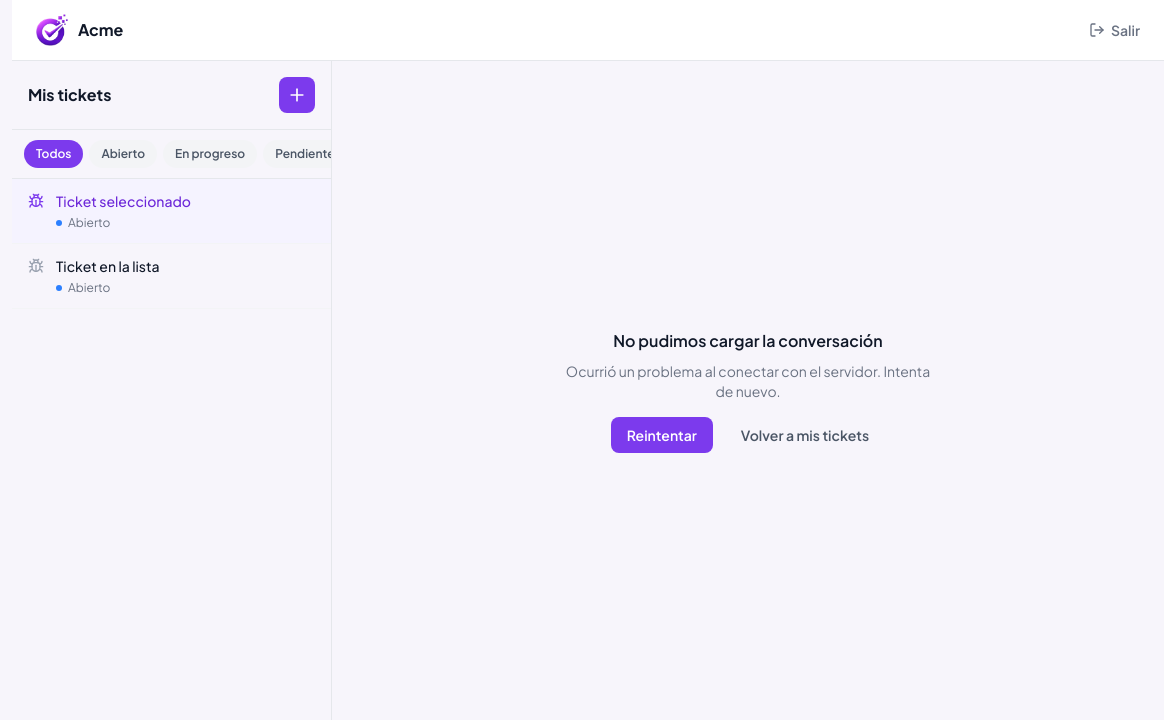
it: PortalInboxScreen detalle del ticket › muestra el error con Reintentar en vez de un esqueleto infinito y recupera al reintentar
Expected: the text "No pudimos cargar la conversación" is shown, 613,330 -> 883,350
Expected: the message is shown, 556,328 -> 940,452
Click the button "Reintentar": [662, 434] box 611,416 -> 713,452
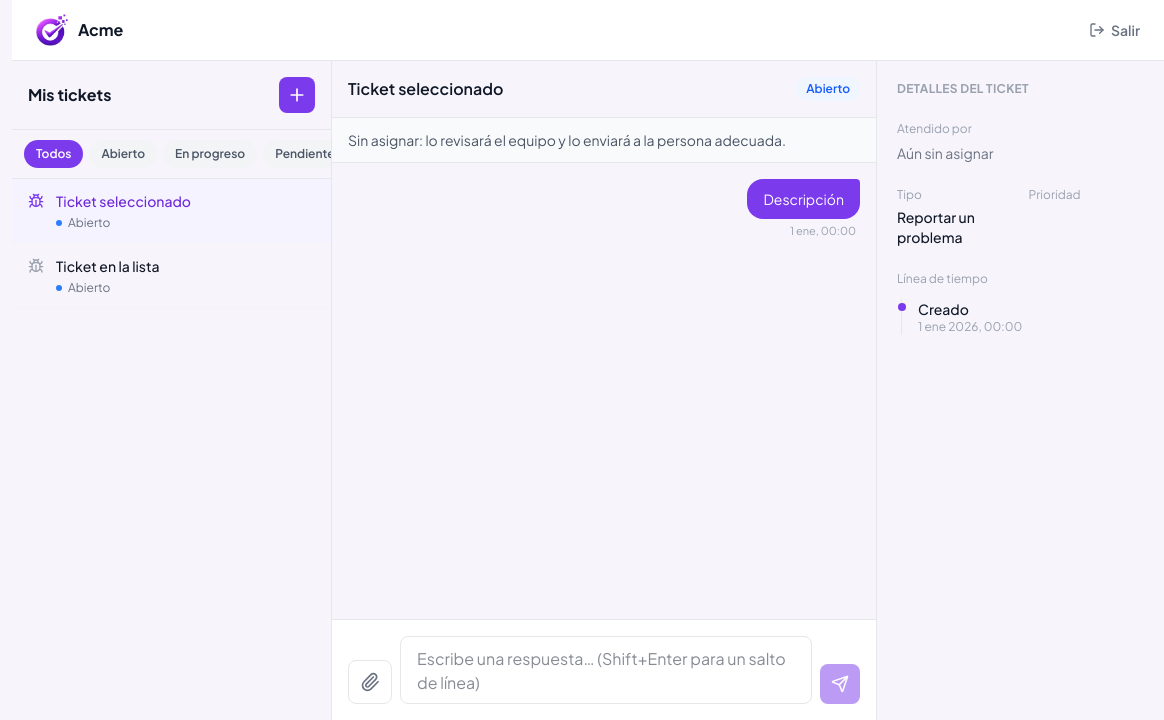
Result: the text "Descripción" is shown at 747,179 -> 860,219
Result: the text "No pudimos cargar la conversación" is gone
